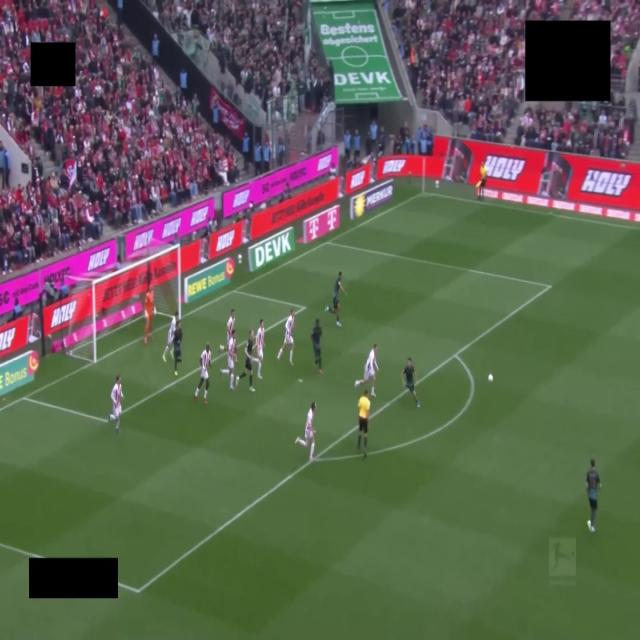ball: (488, 374, 493, 382)
player: (355, 344, 378, 397), (295, 402, 315, 461), (325, 272, 346, 327), (586, 458, 601, 532), (236, 330, 254, 391), (220, 329, 236, 390), (195, 344, 211, 404), (277, 310, 294, 366), (108, 376, 123, 432), (402, 359, 419, 407), (163, 312, 178, 361), (219, 309, 234, 352), (311, 320, 322, 375), (144, 288, 155, 343), (255, 320, 264, 379), (173, 320, 182, 375)
referee: (358, 390, 370, 456)
